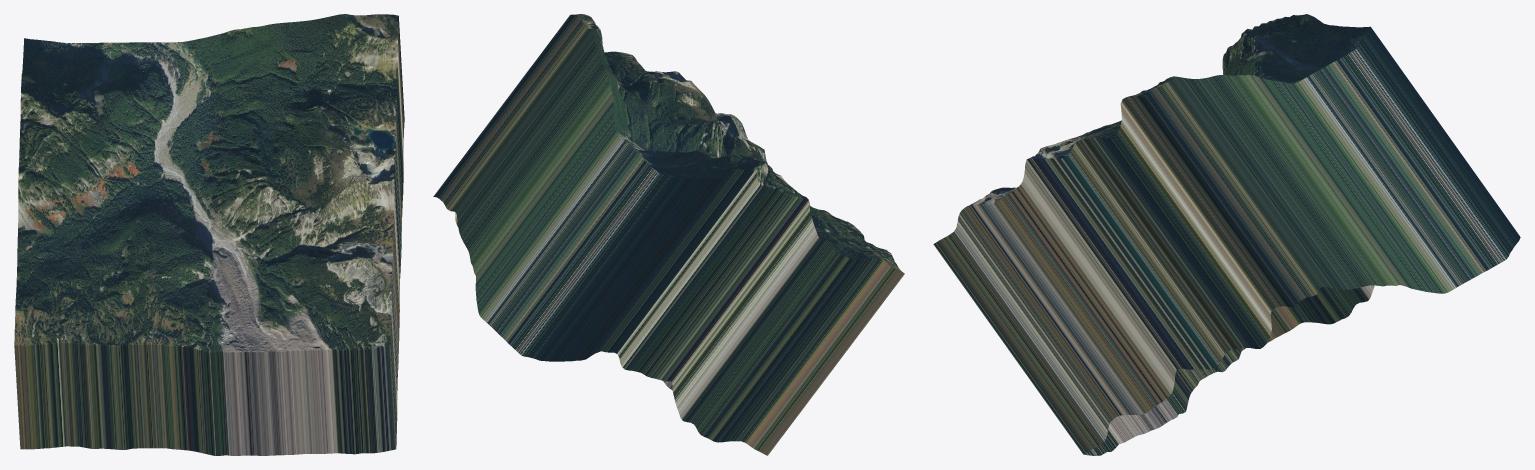
3 renders of one model, left to right at view 1: azimuth 30°, elevation 25°; view 2: azimuth 150°, elevation 25°; view 3: azimuth 270°, elevation 25°, orthographic. The views are drawn at different scales.
Bounding box in the file's own units: 6025 × 5002 × 6818.
Materials: 1 (1 with a texture image).
